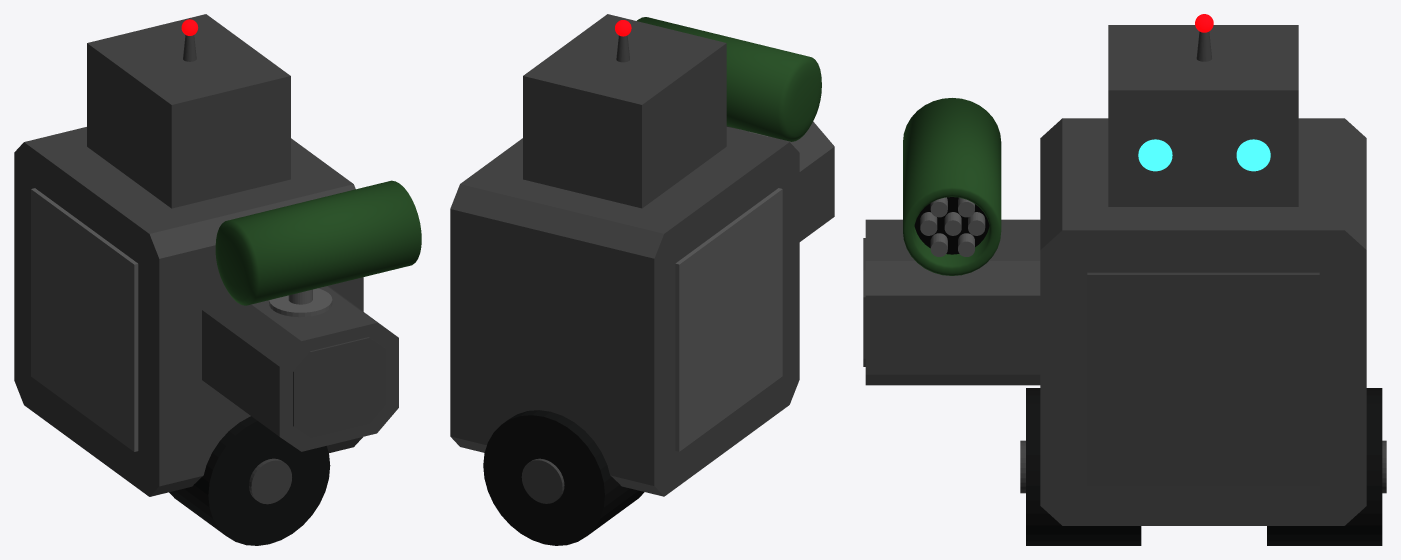
File: robot2.fbx
The picture shows the model from 3 angles, left to right: view 1: azimuth 30°, elevation 25°; view 2: azimuth 150°, elevation 25°; view 3: azimuth 270°, elevation 25°; orthographic projection. The views are drawn at different scales.
Parts seen in each view (by area): view 1: Robot_Spread; view 2: Robot_Spread; view 3: Robot_Spread.
Part boxes in pixels (x1,y1,x2,y2): Robot_Spread: (14,14,421,545); Robot_Spread: (450,14,834,545); Robot_Spread: (863,14,1386,545).
Bounding box in the file's own units: 384 × 804 × 728.
